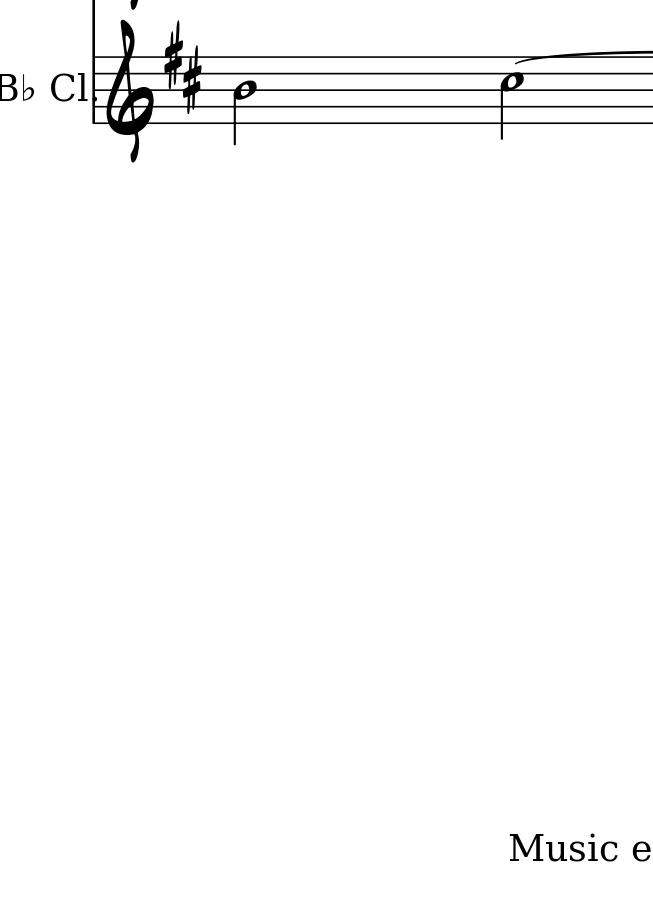2_4: (232, 54, 257, 146)
2_5: (499, 55, 524, 139)
Cl: (48, 70, 88, 104)
Gclef: (104, 18, 153, 161)
Single_barline: (88, 55, 100, 124)
